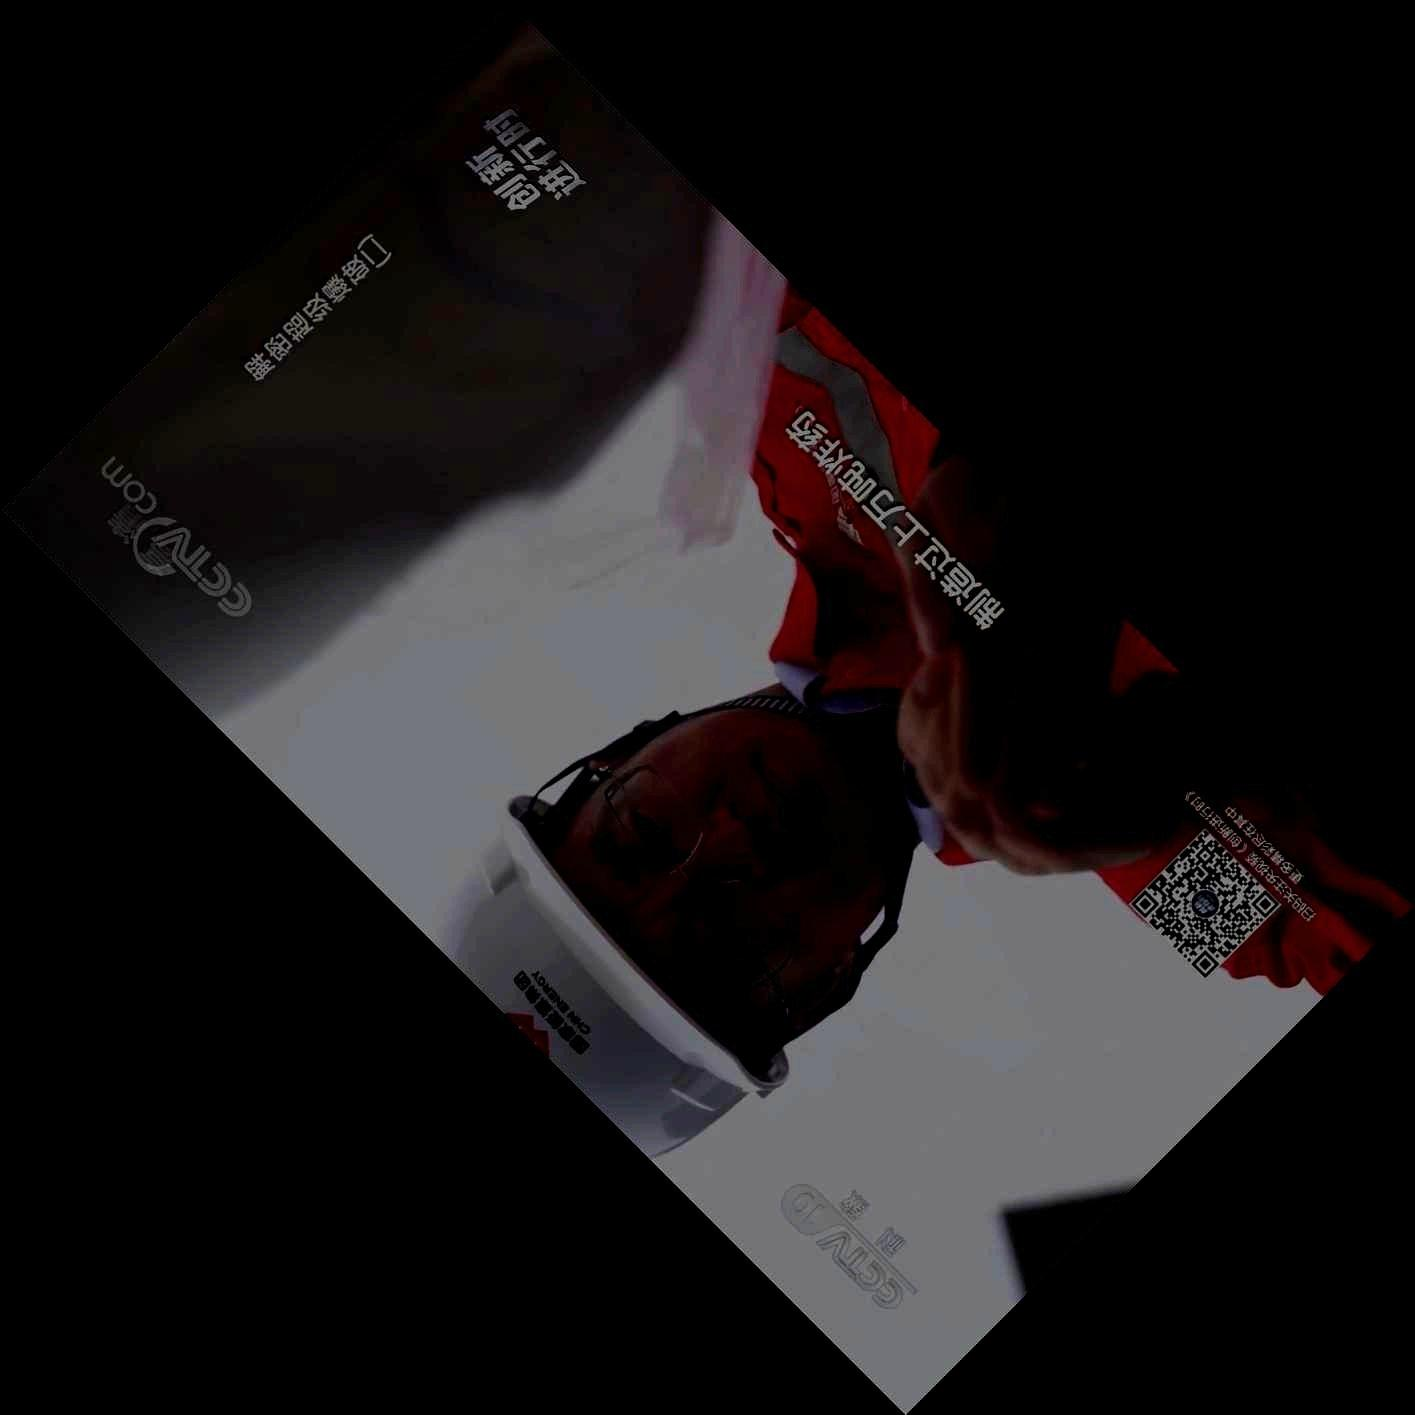helmet: (426, 707, 892, 1156)
